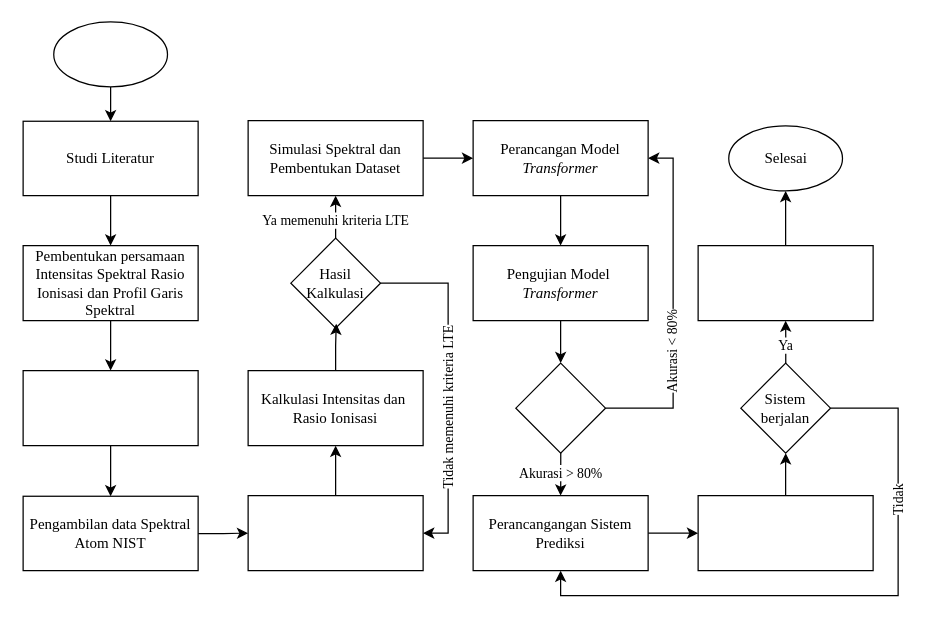
This 930x628 diagram has some shape labels left out. Here are the shapes that lost their labels. From the top down, the centre of each, then its label:
(x=110, y=54): Mulai
(x=785, y=282): Penulisan Laporan
(x=110, y=407): Perancangan Model Simulasi Spektral
(x=560, y=407): Hasil Evaluasi
(x=335, y=532): Penentuan Varian Suhu Plasma dan Densitas Elektron
(x=785, y=532): Pengujian Sistem Prediksi
